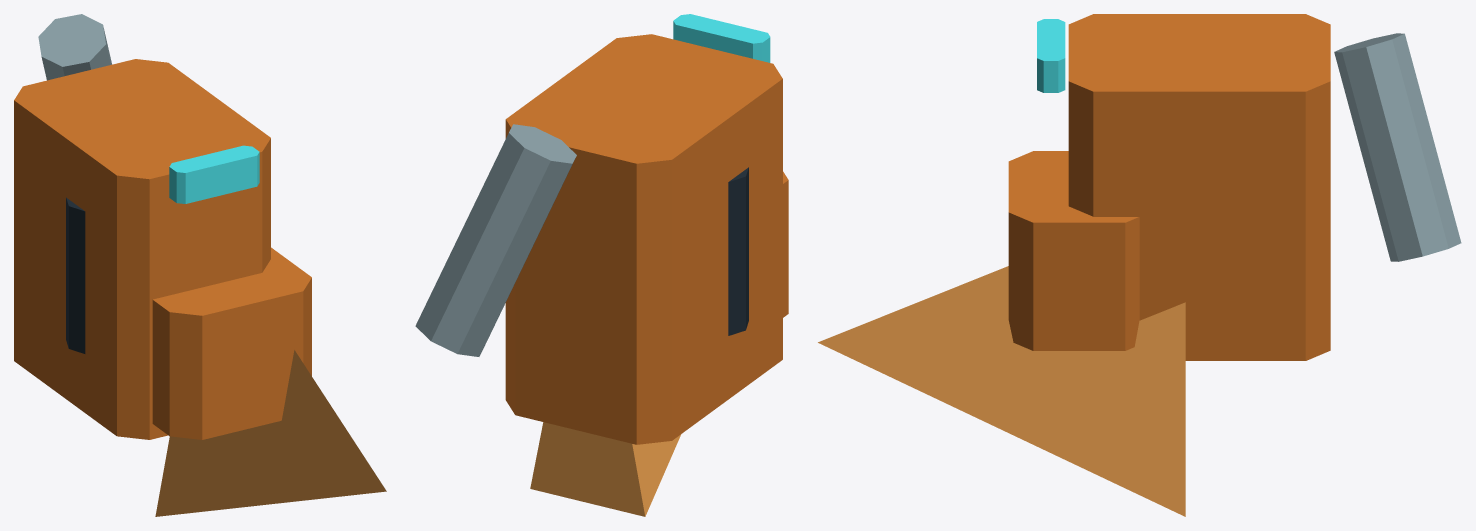
File: enemy_runner_forearm_r.obj
3 views of the same model, side by side, from view 1: azimuth 30°, elevation 25°; view 2: azimuth 150°, elevation 25°; view 3: azimuth 270°, elevation 25° (orthographic). The views are drawn at different scales.
Size of the model in its own units: 0.3316 by 0.6816 by 0.91.
